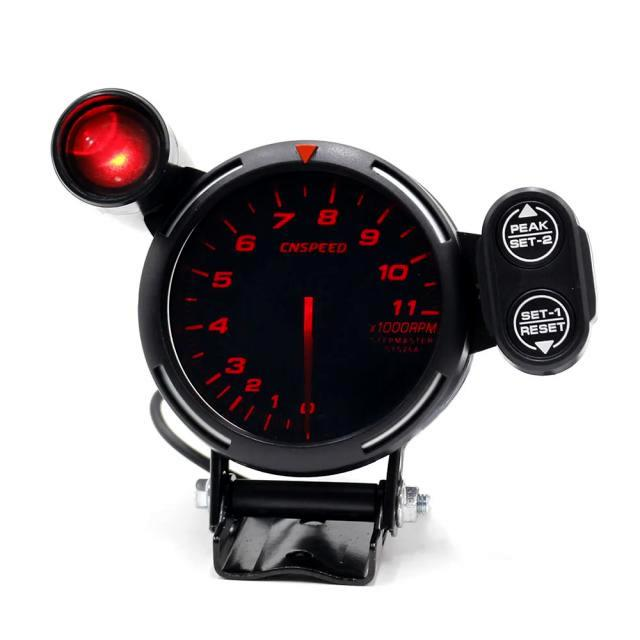Needle_Tip: (285, 396, 336, 448)
Needle_base: (284, 285, 335, 336)
max_value: (382, 293, 438, 326)
min_value: (288, 393, 327, 432)
